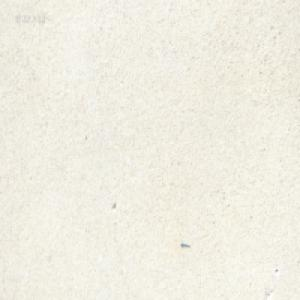Nail: (180, 240, 190, 247)
